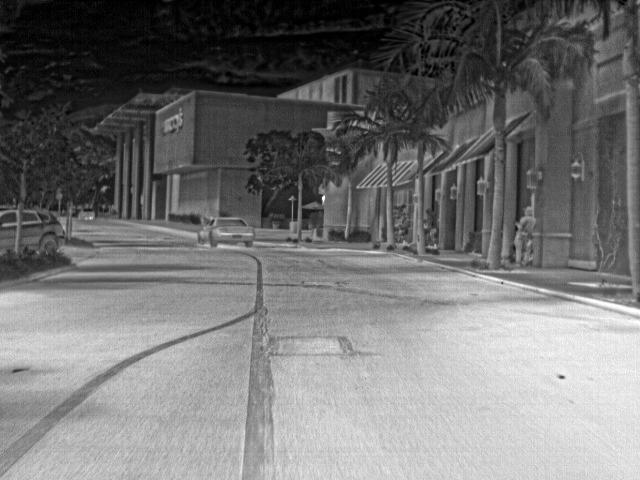car: (22, 208, 65, 252), (196, 218, 254, 248), (0, 208, 16, 252), (77, 206, 97, 222)
person: (514, 204, 538, 269)
